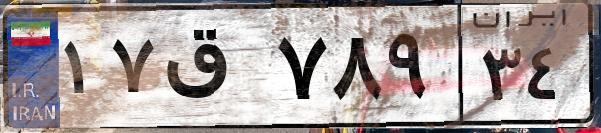1: (57, 26, 110, 100)
3: (475, 38, 525, 113)
4: (525, 38, 570, 115)
7: (270, 28, 330, 110), (110, 28, 158, 98)
8: (330, 28, 385, 110)
9: (385, 28, 445, 110)
ق: (158, 20, 270, 120)
